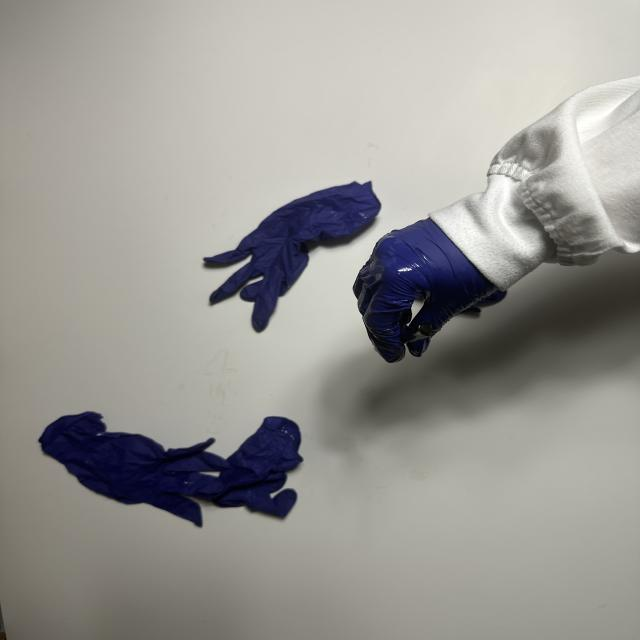gloves_contaminated: (353, 220, 497, 362)
